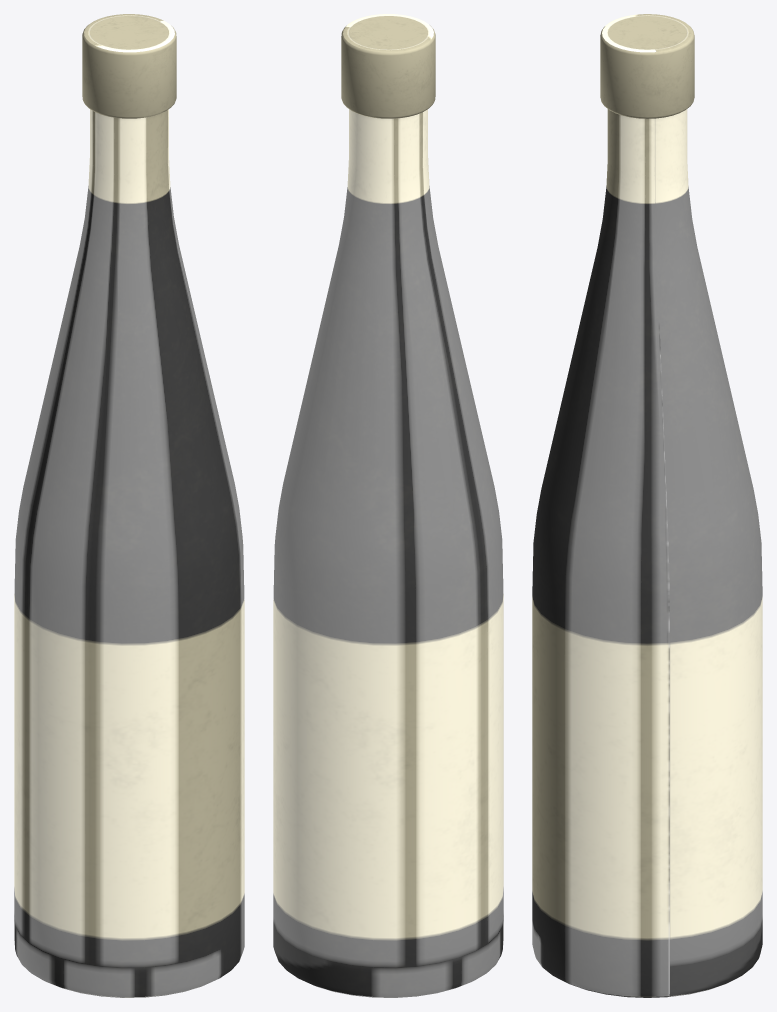
File: SM_WineBottle1.fbx
3 views of the same model, side by side, from view 1: azimuth 30°, elevation 25°; view 2: azimuth 150°, elevation 25°; view 3: azimuth 270°, elevation 25° (orthographic).
Parts seen in each view (by area): view 1: SM_WineBottle1_LOD0; view 2: SM_WineBottle1_LOD0; view 3: SM_WineBottle1_LOD0.
Part boxes in pixels (x1,y1,x2,y2): SM_WineBottle1_LOD0: (14, 14, 244, 997); SM_WineBottle1_LOD0: (273, 14, 503, 997); SM_WineBottle1_LOD0: (532, 14, 762, 997).
Size of the model in its own units: 8.39 by 8.39 by 36.93.
1 material, 1 textured.
